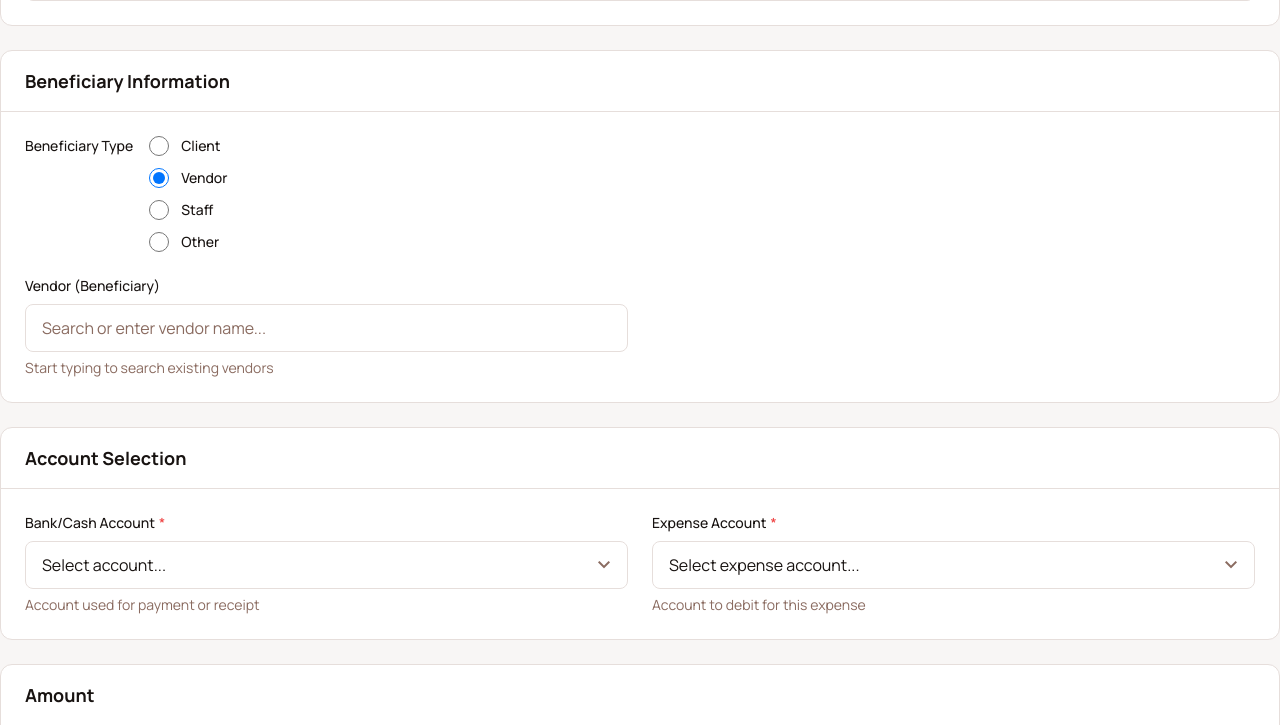
Test case: VoucherFormPage type switching › changing the beneficiary type swaps the party field and clears the previous party
This screenshot has width=1280, height=725.
(page scrolled)
In the field with test id "voucher-vendor-input": x=326, y=328 x1=25 y1=304 x2=628 y2=352, type "vendor-42"
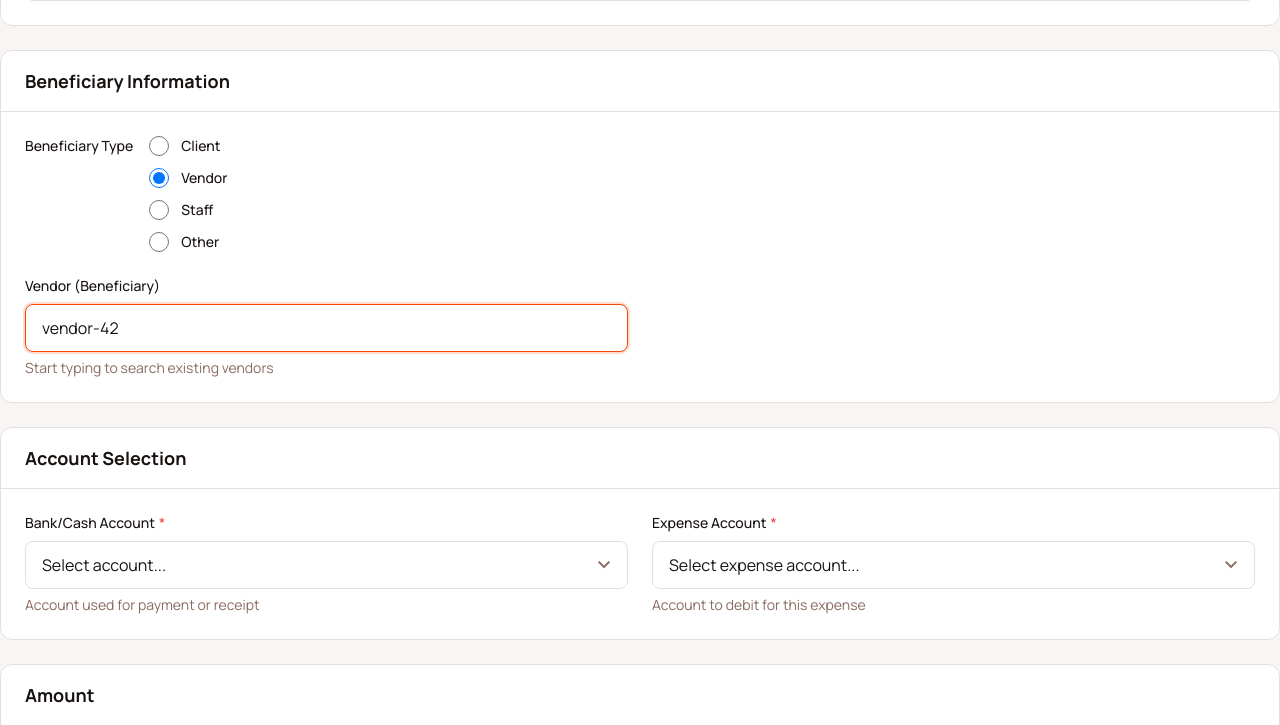
Click the radio button labelled "Staff": x=159, y=210 x1=149 y1=200 x2=169 y2=220
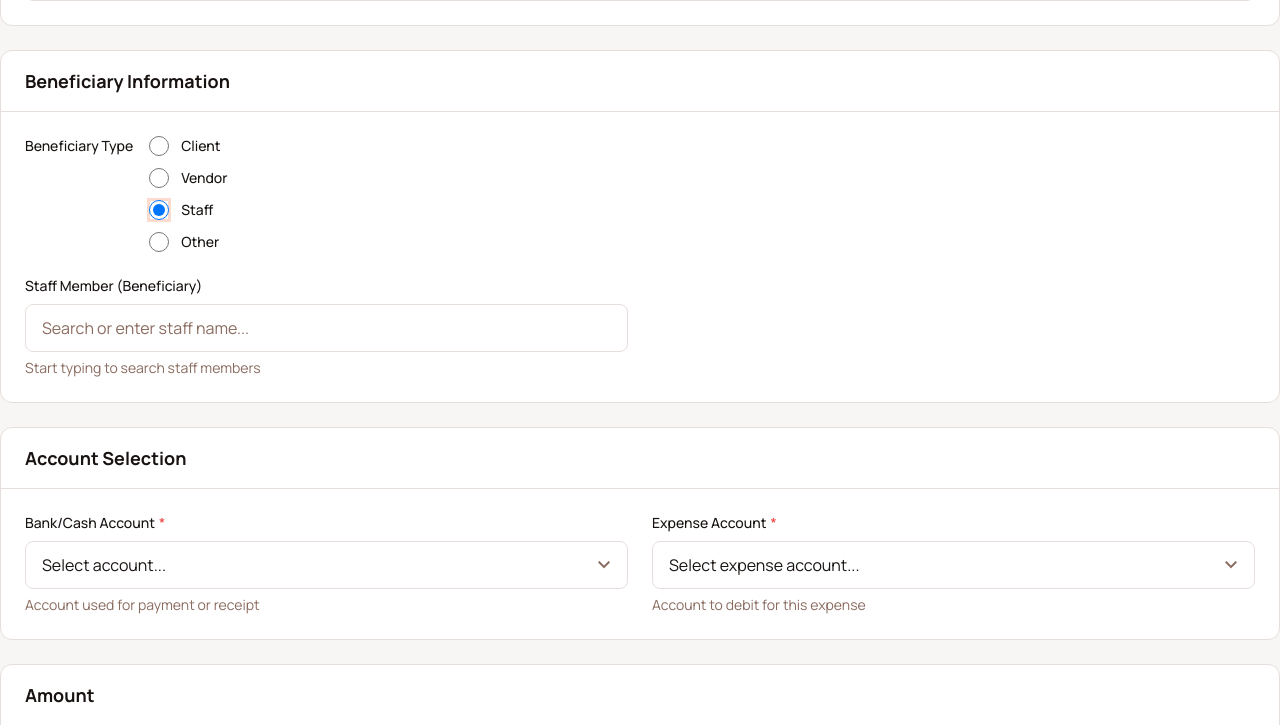
Now the field with test id "voucher-vendor-input" is gone
Now the field with test id "voucher-staff-input" is empty, box x1=25 y1=304 x2=628 y2=352
Click the radio button labelled "Vendor": x=159, y=178 x1=149 y1=168 x2=169 y2=188
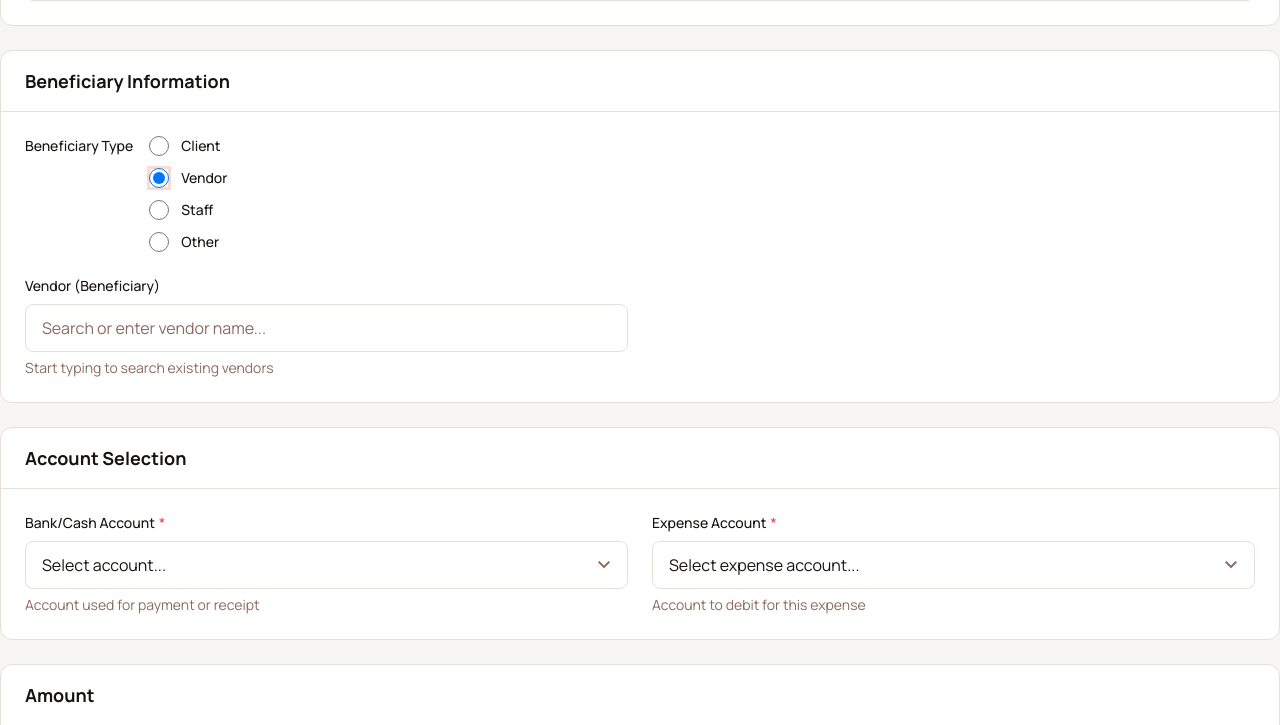
Now the field with test id "voucher-vendor-input" is empty, box x1=25 y1=304 x2=628 y2=352
Click the radio button labelled "Other": x=159, y=242 x1=149 y1=232 x2=169 y2=252
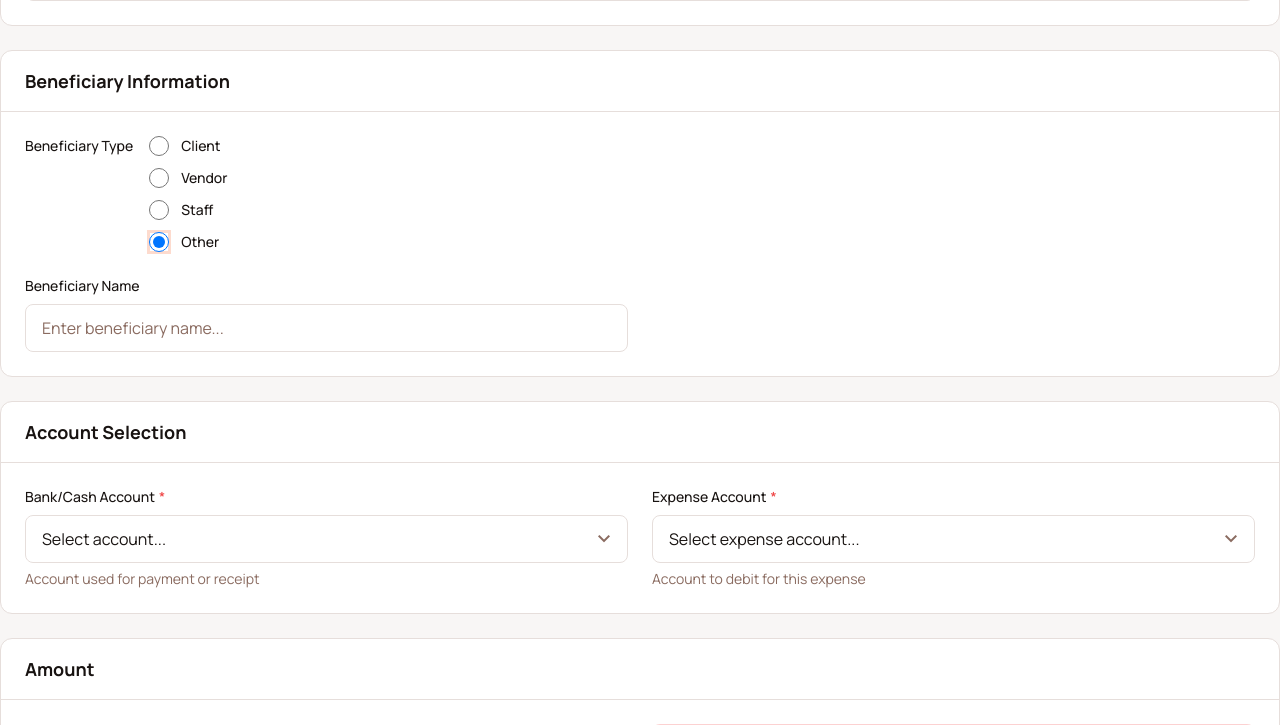
Now the field with test id "voucher-beneficiary-name-input" is shown, box x1=25 y1=304 x2=628 y2=352
